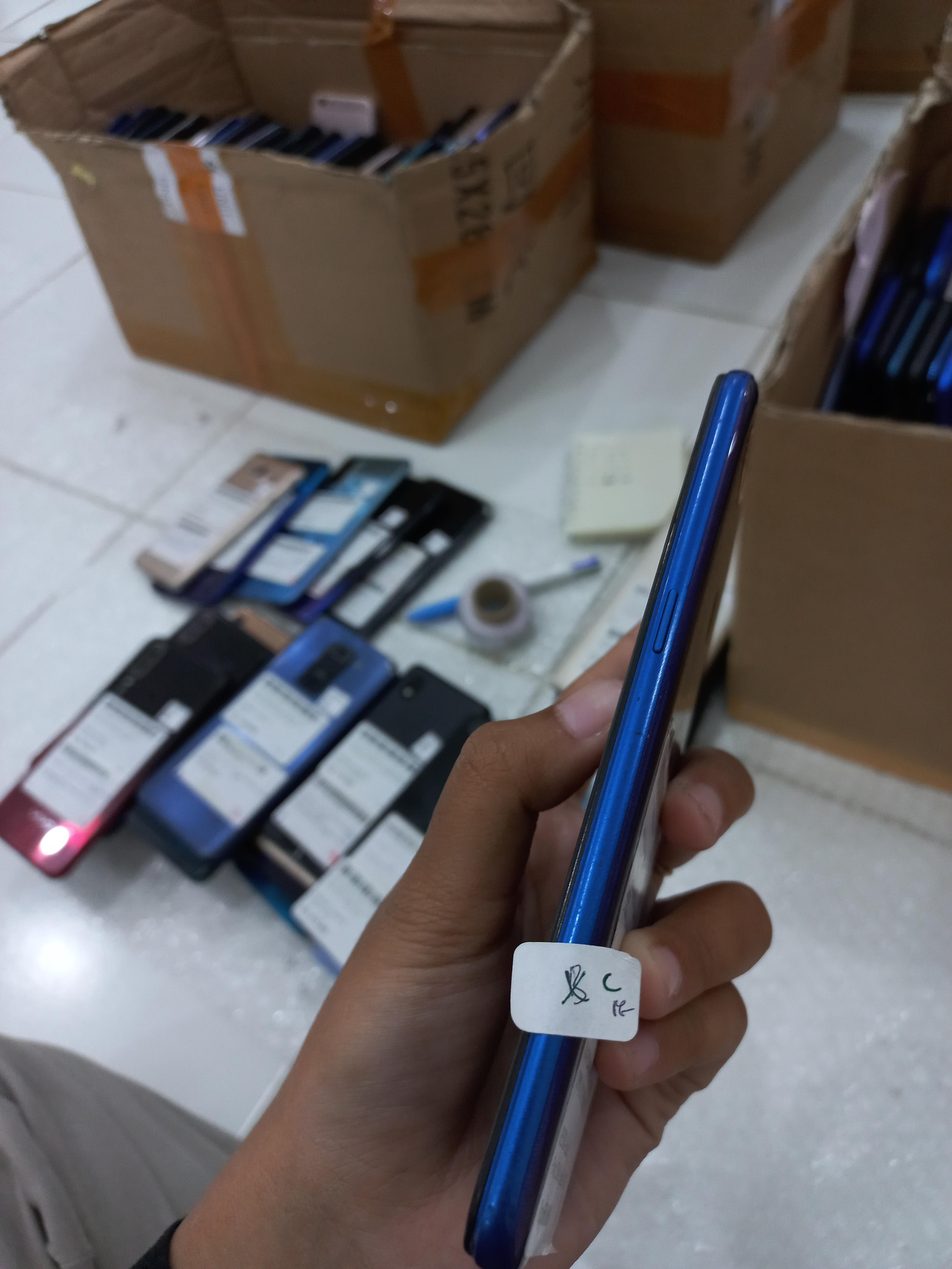phone good: (492, 373, 800, 1258), (271, 324, 298, 334)
